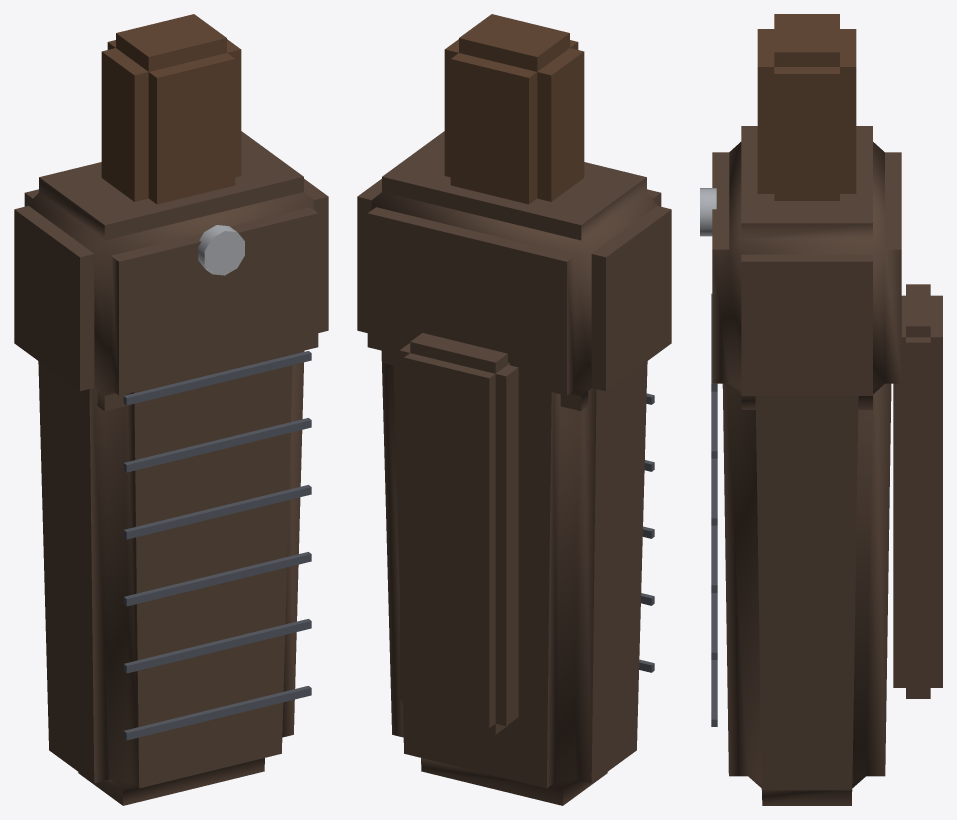
The model's file is item_holster.glb.
The picture shows the model from 3 angles, left to right: view 1: azimuth 30°, elevation 25°; view 2: azimuth 150°, elevation 25°; view 3: azimuth 270°, elevation 25°; orthographic projection.
Visible parts, largest first — view 1: holster; view 2: holster; view 3: holster.
Boxes of the visible parts, x1=… form: holster: x1=14, y1=14, x2=328, y2=805; holster: x1=357, y1=14, x2=671, y2=805; holster: x1=700, y1=14, x2=942, y2=805.
Size of the model in its own units: 0.07 by 0.198 by 0.059.
